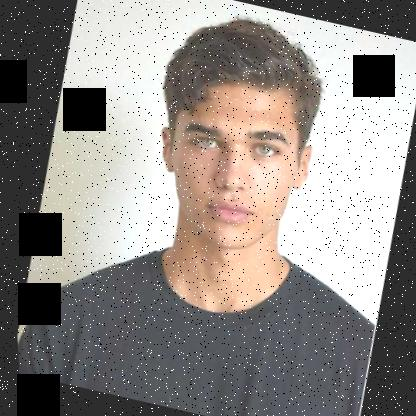Male: (137, 58, 327, 258)
